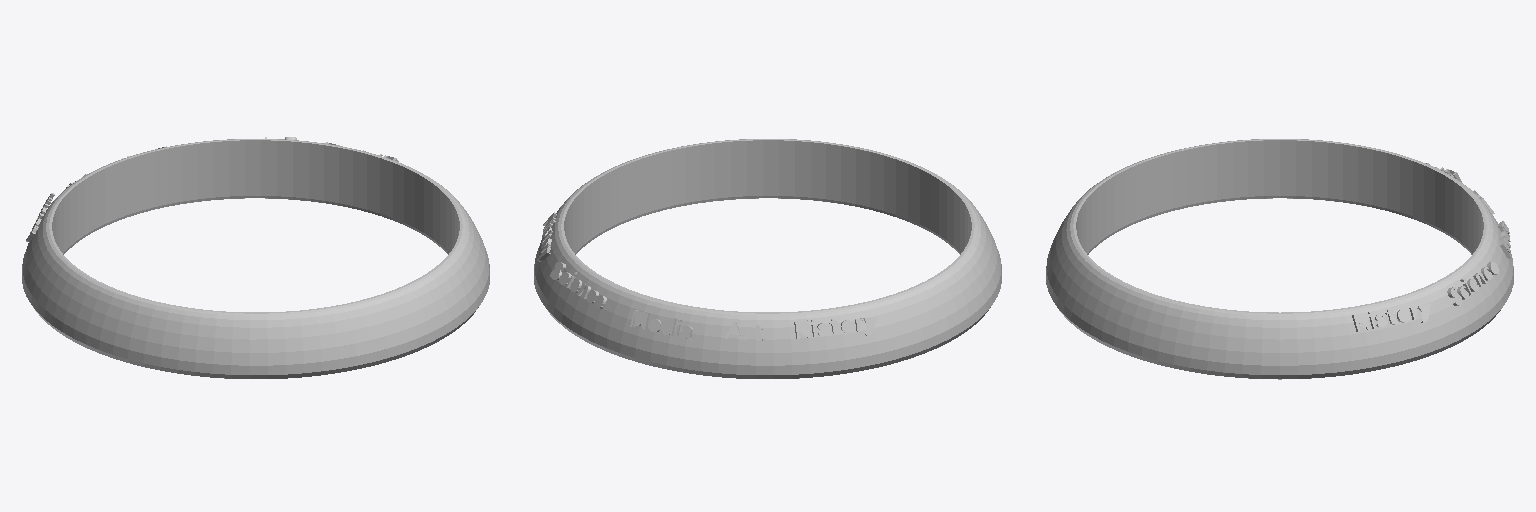
File: R-Ring1.obj
3 views of the same model, side by side, from view 1: azimuth 30°, elevation 25°; view 2: azimuth 150°, elevation 25°; view 3: azimuth 270°, elevation 25° (orthographic).
Parts seen in each view (by area): view 1: pCylinder9 pCylinder2SmoothProxyGroup; view 2: pCylinder9 pCylinder2SmoothProxyGroup, pCylinder9 pCylinder2SmoothProxyGroup typeMesh8, pCylinder9 pCylinder2SmoothProxyGroup typeMesh11, pCylinder9 pCylinder2SmoothProxyGroup typeMesh10; view 3: pCylinder9 pCylinder2SmoothProxyGroup, pCylinder9 pCylinder2SmoothProxyGroup typeMesh7, pCylinder9 pCylinder2SmoothProxyGroup typeMesh11.
Boxes of the visible parts, box(x1,y1,x2,y2) form: pCylinder9 pCylinder2SmoothProxyGroup: box(22, 139, 489, 378); pCylinder9 pCylinder2SmoothProxyGroup: box(534, 139, 1001, 378); pCylinder9 pCylinder2SmoothProxyGroup typeMesh8: box(794, 317, 876, 338); pCylinder9 pCylinder2SmoothProxyGroup typeMesh11: box(550, 262, 606, 308); pCylinder9 pCylinder2SmoothProxyGroup typeMesh10: box(630, 310, 692, 339); pCylinder9 pCylinder2SmoothProxyGroup: box(1046, 139, 1513, 379); pCylinder9 pCylinder2SmoothProxyGroup typeMesh7: box(1352, 304, 1430, 331); pCylinder9 pCylinder2SmoothProxyGroup typeMesh11: box(1447, 262, 1499, 305).
Size of the model in its own units: 2.98 by 0.4159 by 2.98.